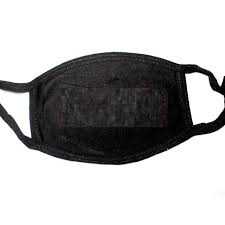cloth_mask: (2, 48, 225, 168)
